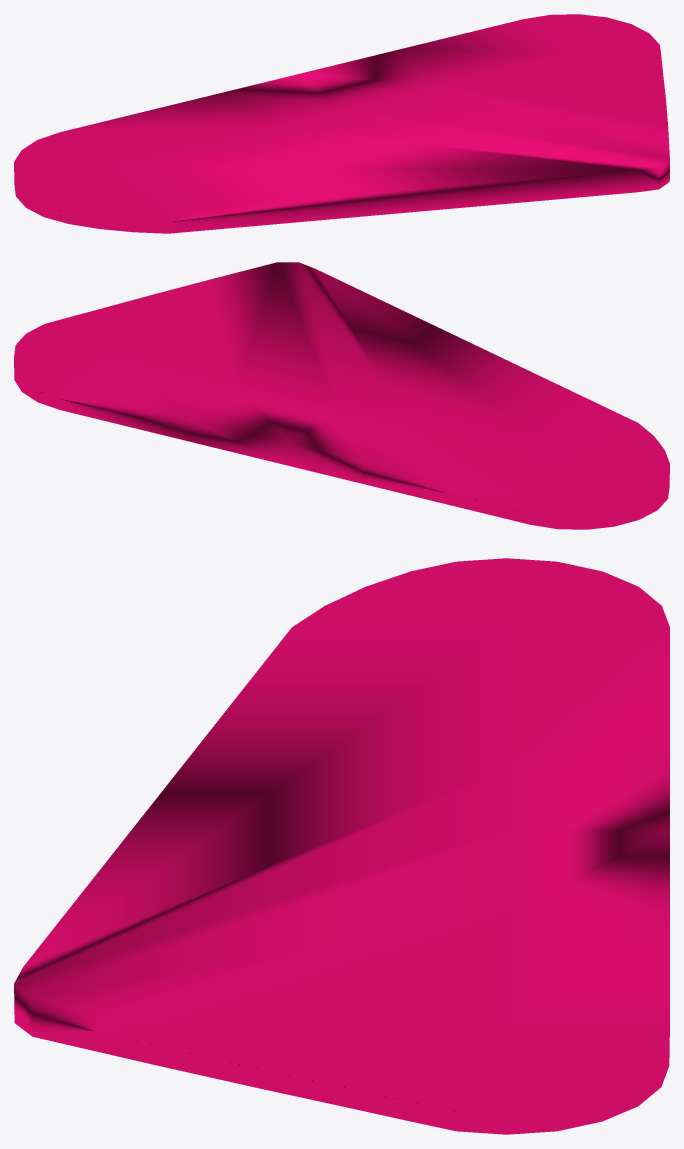
File: Board_Form_15.fbx
3 views of the same model, one above another, from view 1: azimuth 30°, elevation 25°; view 2: azimuth 150°, elevation 25°; view 3: azimuth 270°, elevation 25° (orthographic). The views are drawn at different scales.
Visible parts, largest first — view 1: Board_Form_15; view 2: Board_Form_15; view 3: Board_Form_15.
Part boxes in pixels (bbox=[...]): Board_Form_15: bbox=[14, 14, 669, 233]; Board_Form_15: bbox=[14, 262, 669, 529]; Board_Form_15: bbox=[14, 558, 669, 1134].
Size of the model in its own units: 8.56 by 0.2918 by 4.41.
